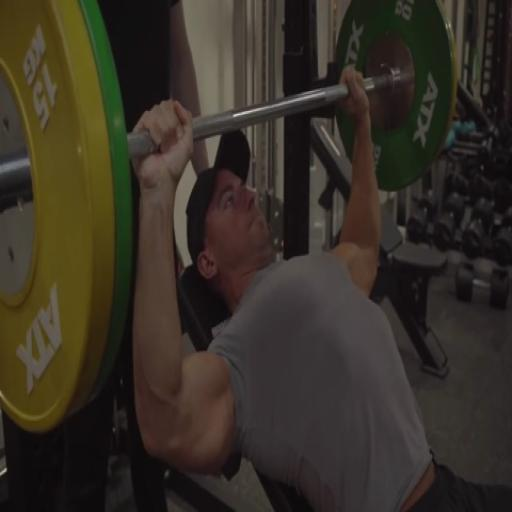exercise: (127, 67, 511, 510)
